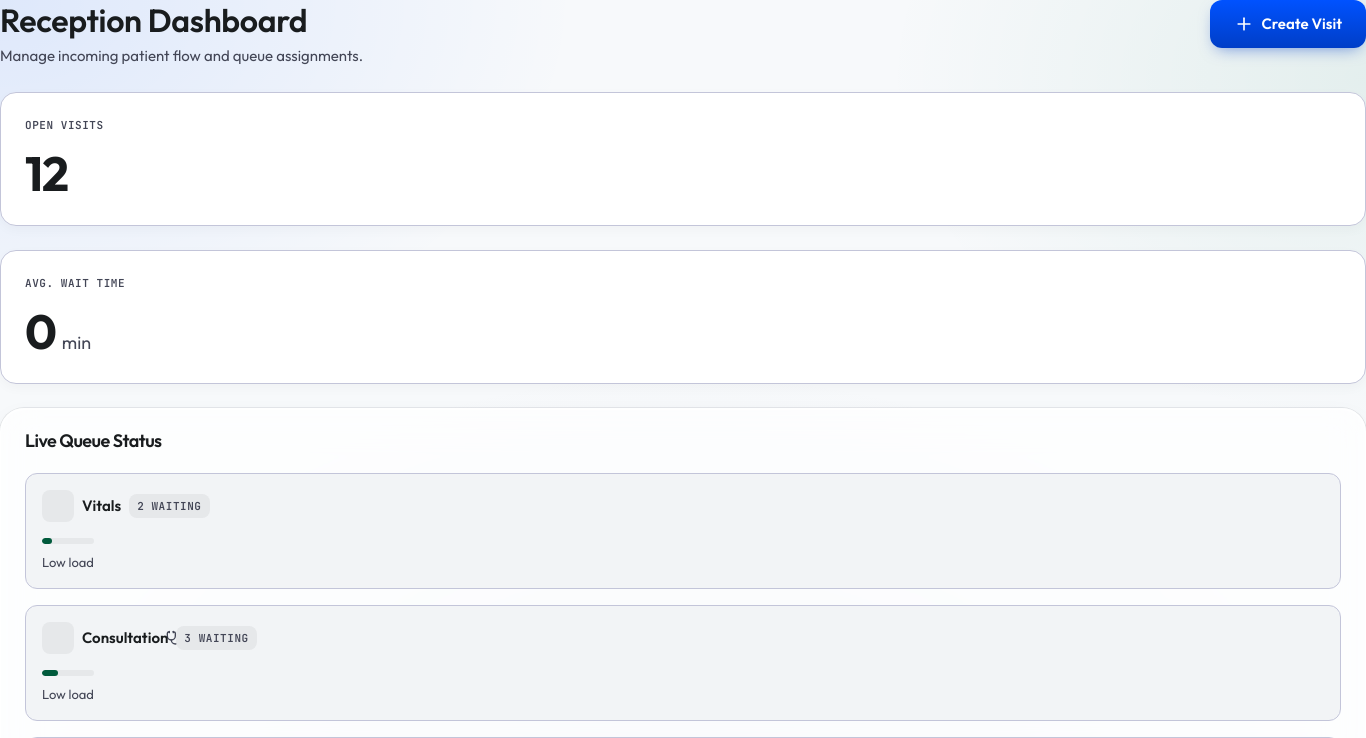
Test: Admission › admits a patient from Reception and shows the ticket and Journey Code
The width and height of the screenshot is (1366, 738).
Click the button "Create Visit". click: (1288, 24)
box: [1210,0,1365,48]
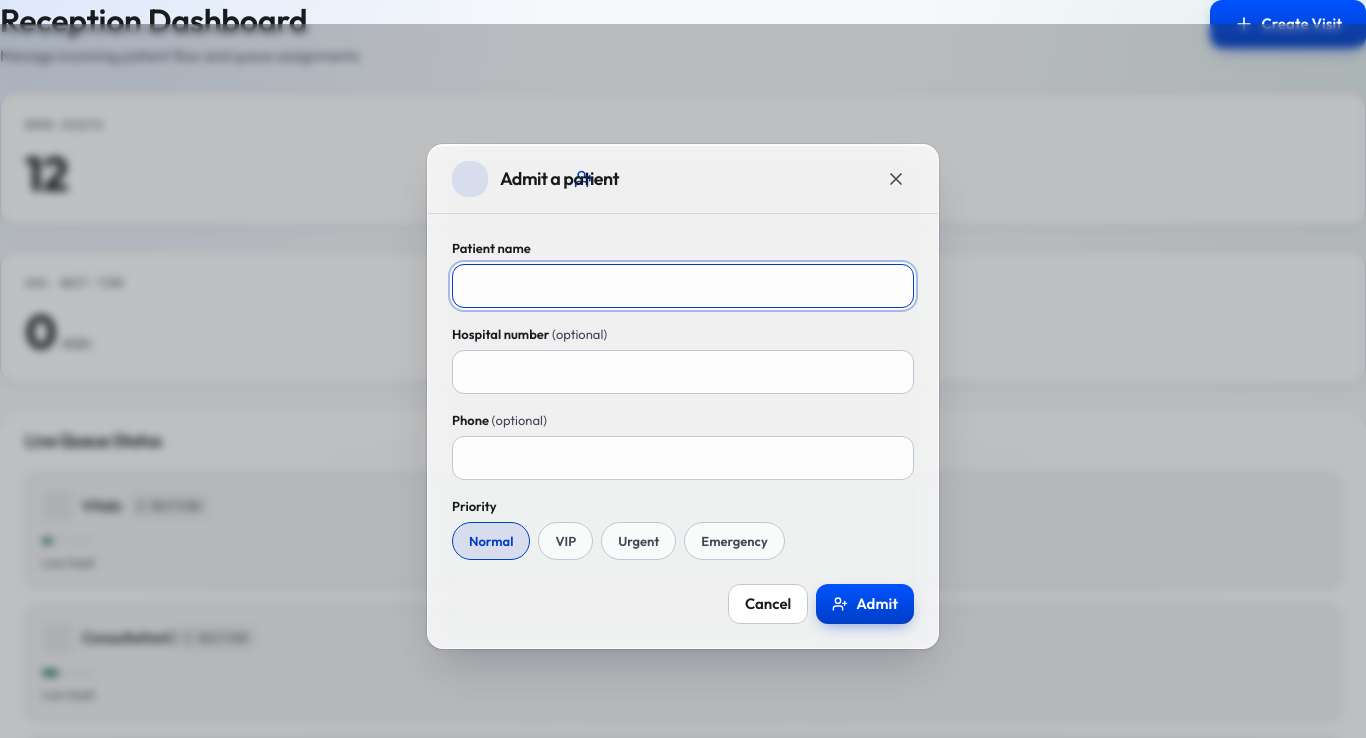
Type "Chidi Eze" into the field labelled "Patient name". click: (683, 286)
box: [452,264,914,308]
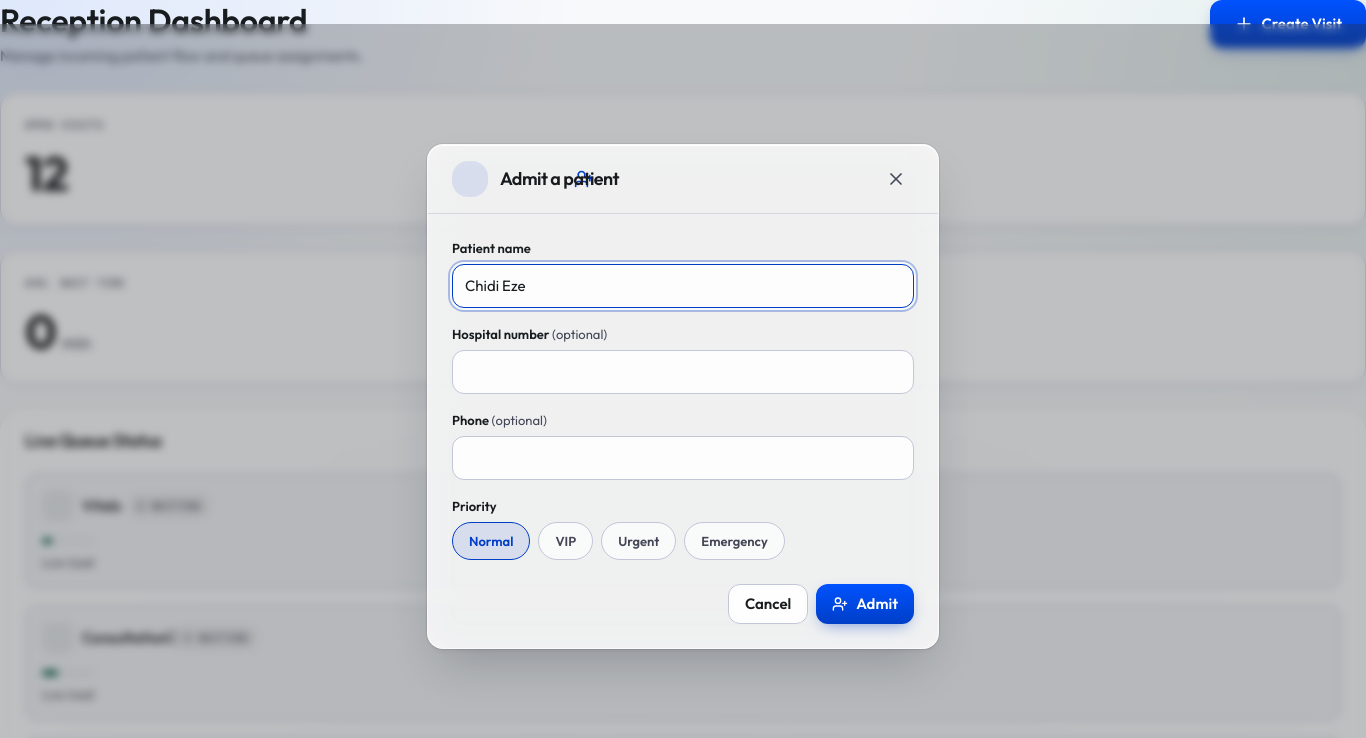
Click the button "Admit". click: (865, 604)
box: [816,584,914,624]
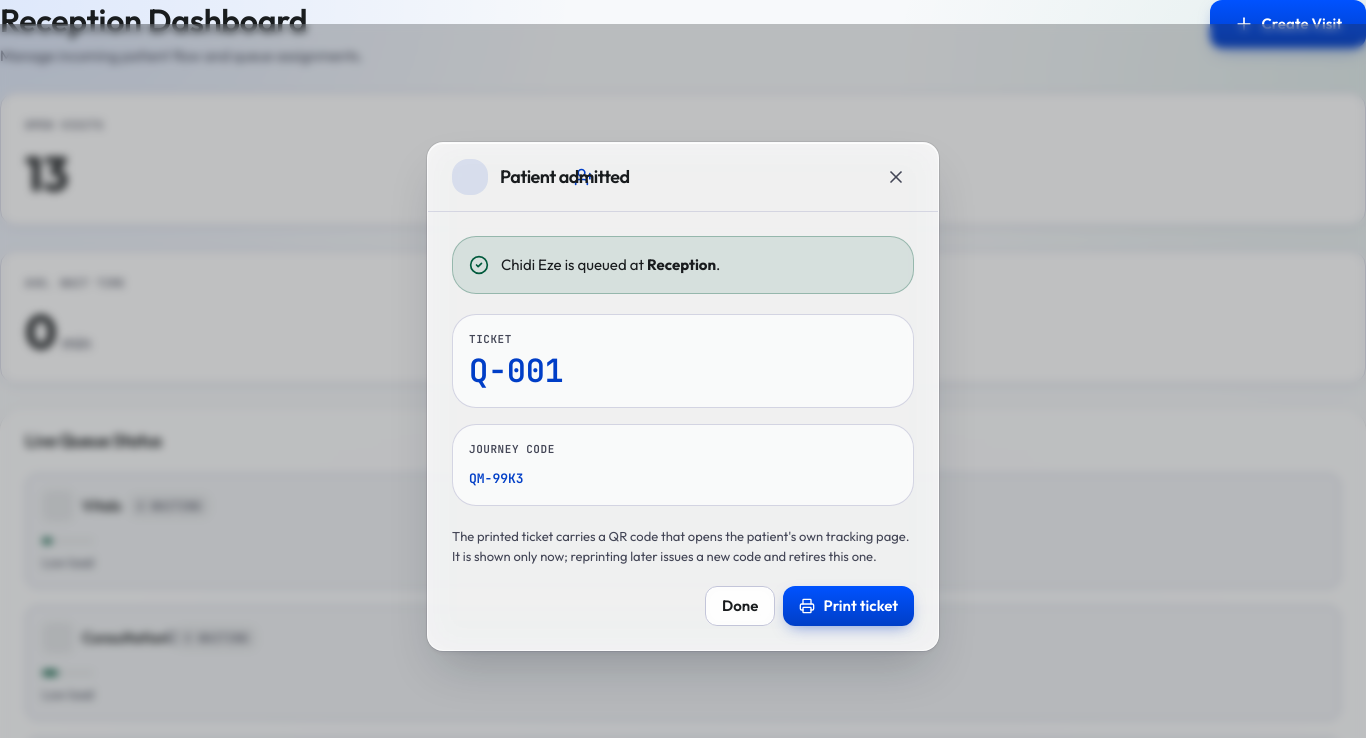
Expected: the heading "Patient admitted" is shown, [500,164,630,188]
